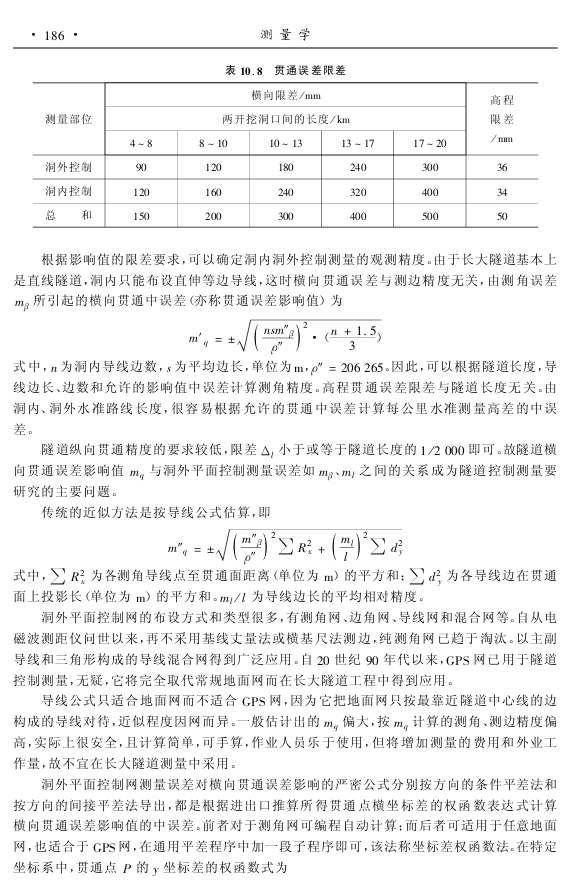table: (32, 82, 538, 228)
